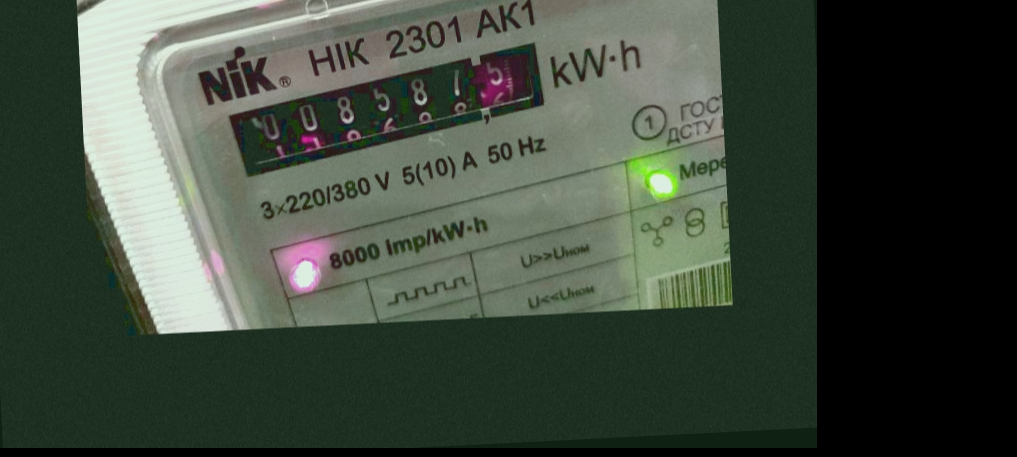0: (294, 97, 322, 132), (257, 106, 284, 140)
5: (369, 80, 394, 112), (482, 52, 506, 84)
6: (489, 87, 508, 105)
7: (444, 63, 467, 98)
8: (333, 91, 359, 124), (406, 72, 431, 106)
screen: (217, 38, 570, 178)
